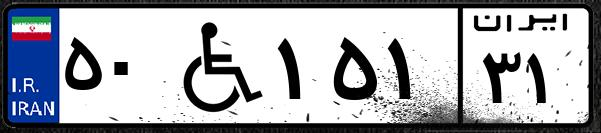0: (110, 28, 158, 98)
1: (270, 28, 330, 110), (385, 28, 445, 110), (525, 38, 570, 115)
3: (475, 38, 525, 113)
5: (330, 28, 385, 110), (57, 26, 110, 100)
ژ (معلولین و جانبازان): (158, 12, 270, 120)
